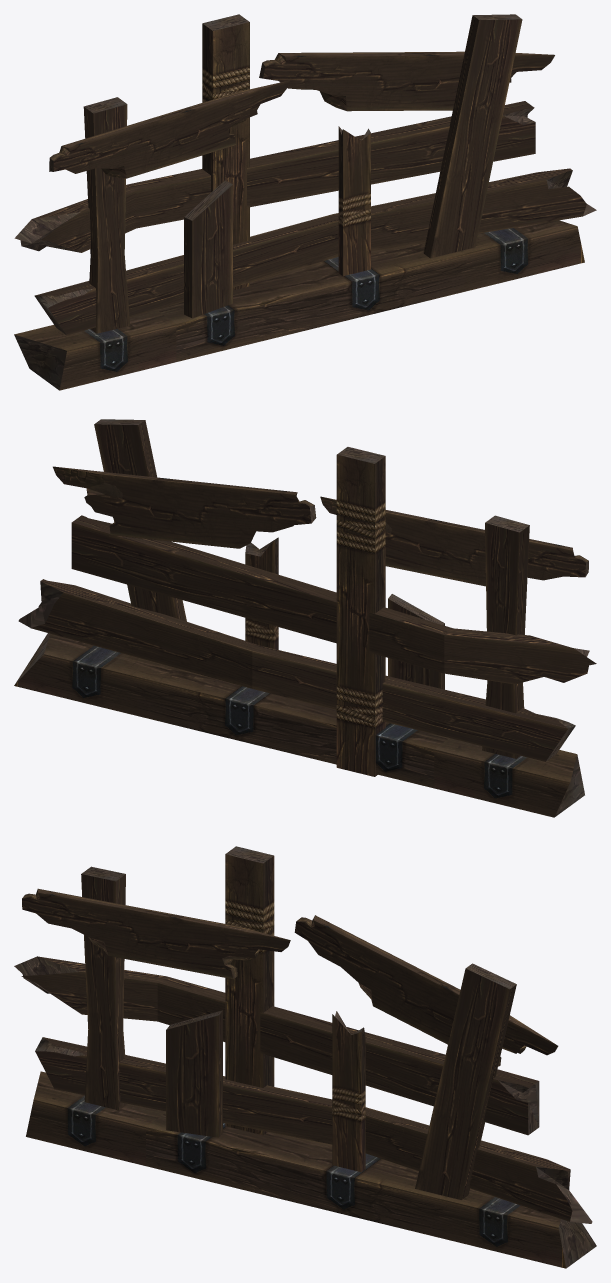
The model's file is A_zhudangqiang.fbx.
3 renders of one model, top to bottom at view 1: azimuth 30°, elevation 25°; view 2: azimuth 150°, elevation 25°; view 3: azimuth 330°, elevation 25°, orthographic. The views are drawn at different scales.
Parts seen in each view (by area): view 1: A_zhudangqiang; view 2: A_zhudangqiang; view 3: A_zhudangqiang.
Part boxes in pixels (left/top/right/bottom): A_zhudangqiang: left=14, top=14, right=596, bottom=390; A_zhudangqiang: left=14, top=419, right=596, bottom=817; A_zhudangqiang: left=14, top=846, right=596, bottom=1268.
Bounding box in the file's own units: 441 × 224 × 46.04.
